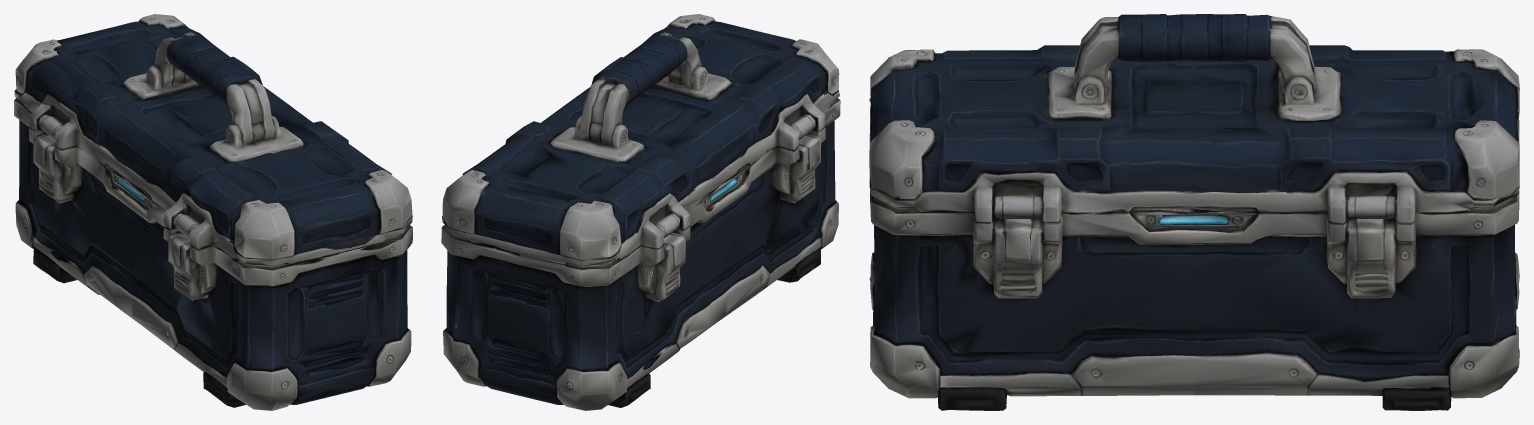
File: sealed_case.glb
3 views of the same model, side by side, from view 1: azimuth 30°, elevation 25°; view 2: azimuth 150°, elevation 25°; view 3: azimuth 270°, elevation 25° (orthographic). The views are drawn at different scales.
Parts seen in each view (by area): view 1: tripo_node_090a5a06-a21c-463a-82ba-187c8d01f549; view 2: tripo_node_090a5a06-a21c-463a-82ba-187c8d01f549; view 3: tripo_node_090a5a06-a21c-463a-82ba-187c8d01f549.
Boxes of the visible parts, x1,y1,x2,y2 form: tripo_node_090a5a06-a21c-463a-82ba-187c8d01f549: (14, 14, 412, 410); tripo_node_090a5a06-a21c-463a-82ba-187c8d01f549: (441, 14, 840, 410); tripo_node_090a5a06-a21c-463a-82ba-187c8d01f549: (869, 14, 1519, 410).
Bounding box in the file's own units: 0.4959 × 0.5808 × 0.9996.
Materials: 1 (1 with a texture image).
